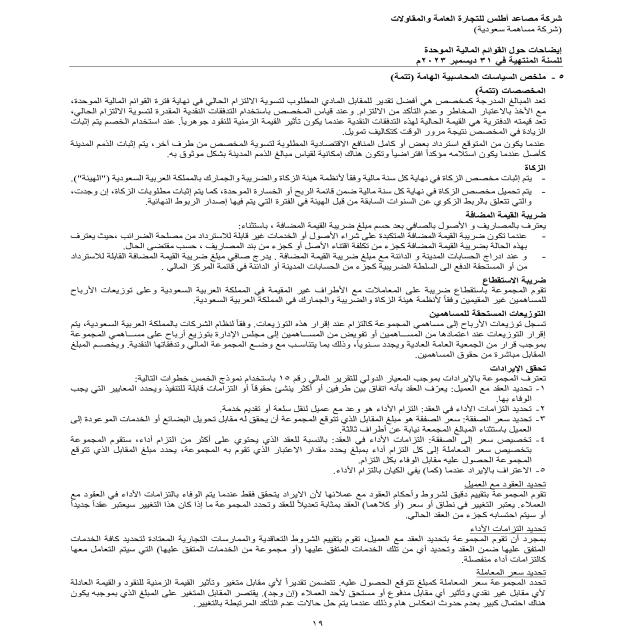notes: (404, 42, 579, 55)
text: (37, 73, 564, 613)
